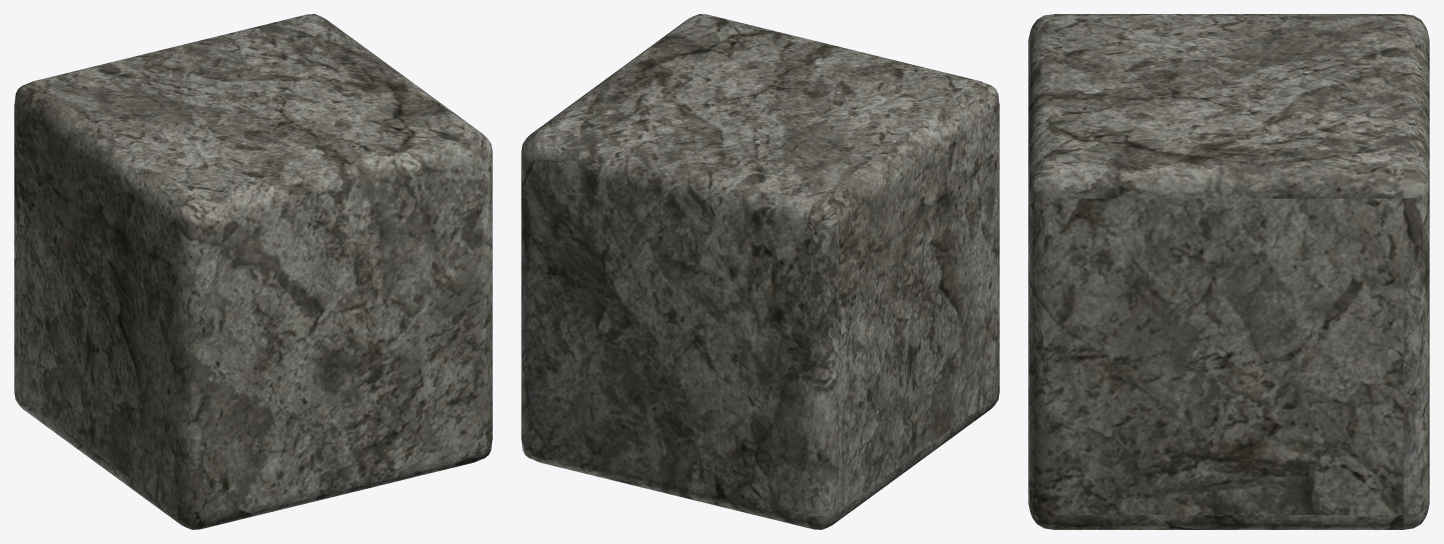
Rendered from Rockblock.fbx.
3 views of the same model, side by side, from view 1: azimuth 30°, elevation 25°; view 2: azimuth 150°, elevation 25°; view 3: azimuth 270°, elevation 25° (orthographic). The views are drawn at different scales.
Parts seen in each view (by area): view 1: Cube; view 2: Cube; view 3: Cube.
Part boxes in pixels (x1,y1,x2,y2): Cube: (14,14,492,529); Cube: (521,14,999,529); Cube: (1028,14,1429,529).
Size of the model in its own units: 150 by 150 by 150.
